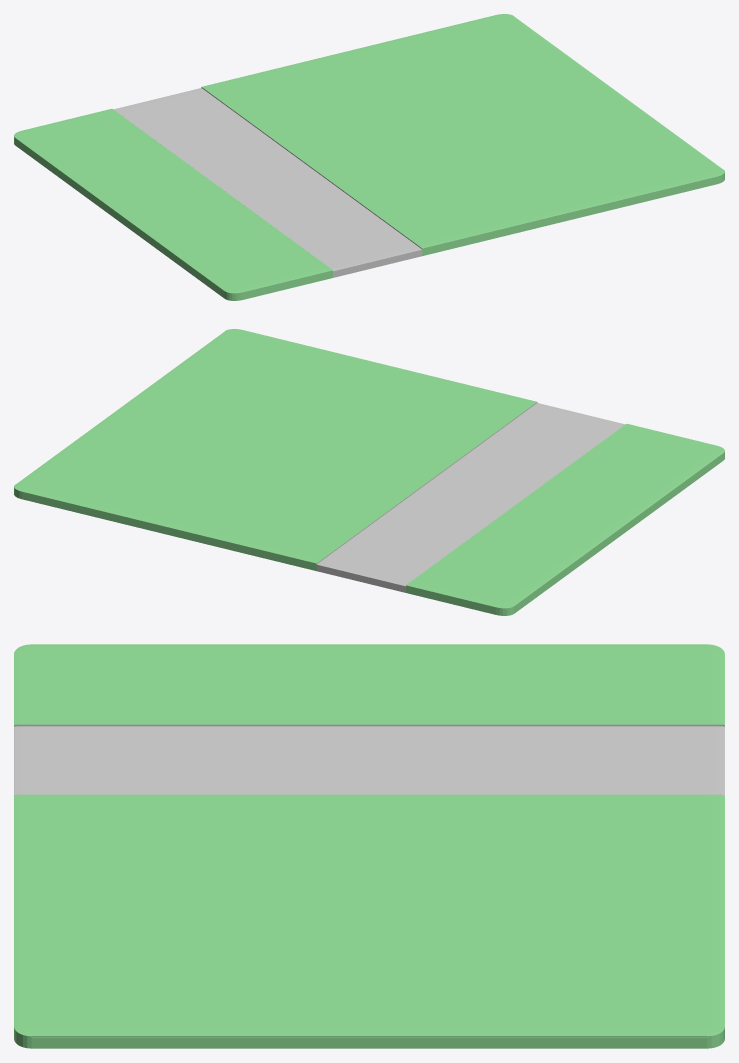
The model's file is StringPlane.glb.
3 renders of one model, top to bottom at view 1: azimuth 30°, elevation 25°; view 2: azimuth 150°, elevation 25°; view 3: azimuth 270°, elevation 25°, orthographic. The views are drawn at different scales.
Visible parts, largest first — view 1: Cube.004; view 2: Cube.004; view 3: Cube.004.
Part boxes in pixels (left/top/right/bottom): Cube.004: left=14, top=14, right=724, bottom=300; Cube.004: left=14, top=329, right=724, bottom=615; Cube.004: left=14, top=644, right=724, bottom=1048.
Bounding box in the file's own units: 7.5 × 0.115 × 5.75.
